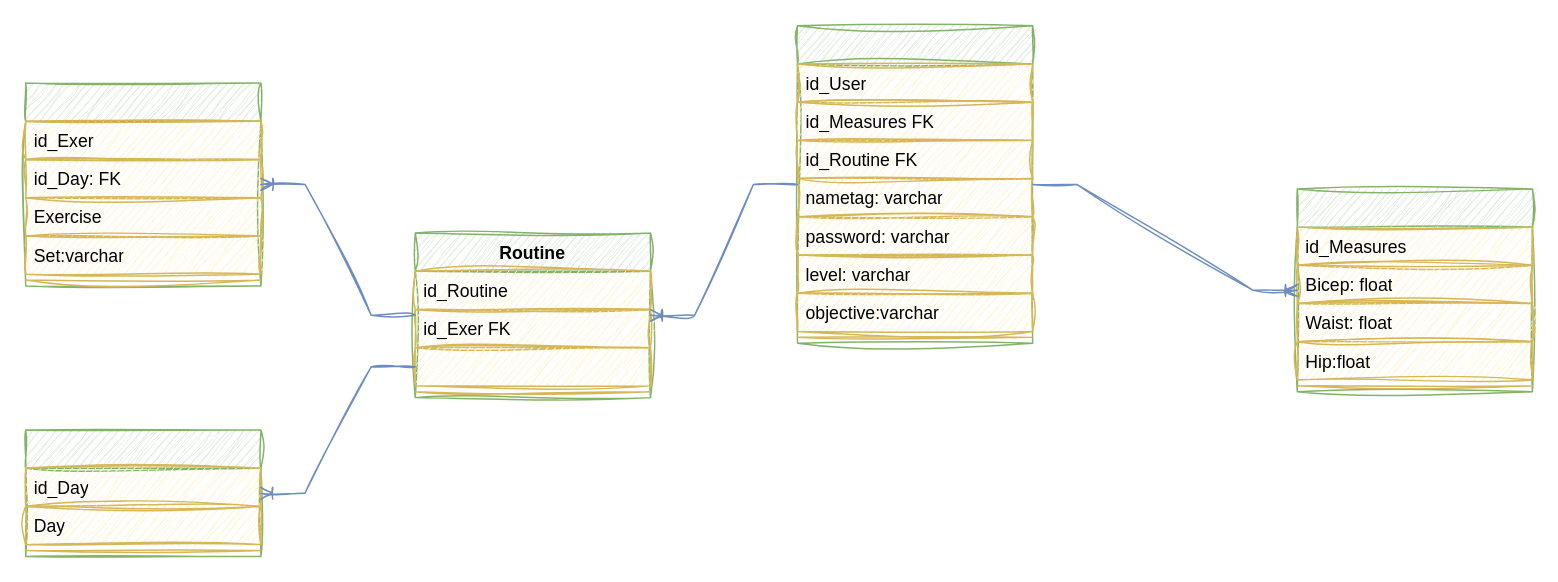
Some shapes in this 1558 by 582 pixel diagram are drawn without their labels. Here are the shapes that lost their labels. From the top down, the box of each, then its label:
(24, 82, 261, 286): Exercises
(796, 24, 1033, 343): Users
(1296, 187, 1532, 392): CorporalMeasures
(414, 346, 650, 386): KindRout:Varchar
(24, 429, 261, 556): Days
